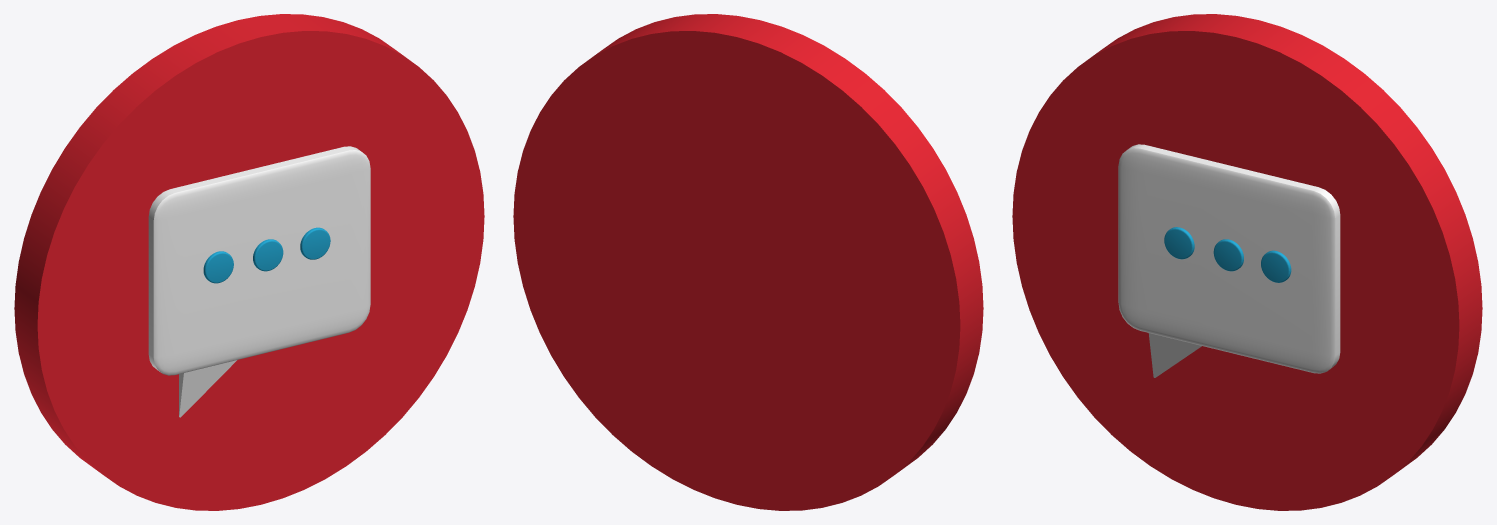
File: chaticon.glb
3 renders of one model, left to right at view 1: azimuth 30°, elevation 25°; view 2: azimuth 150°, elevation 25°; view 3: azimuth 330°, elevation 25°, orthographic.
Visible parts, largest first — view 1: Object_2, Object_3, Object_4; view 2: Object_2; view 3: Object_2, Object_3, Object_4.
Boxes of the visible parts, box(x1,y1,x2,y2) form: Object_2: box(14, 14, 484, 510); Object_3: box(148, 146, 370, 417); Object_4: box(203, 227, 330, 283); Object_2: box(513, 14, 983, 510); Object_2: box(1012, 14, 1482, 510); Object_3: box(1118, 144, 1340, 377); Object_4: box(1164, 227, 1291, 282).
Size of the model in its own units: 4.16 by 4.16 by 0.505.
